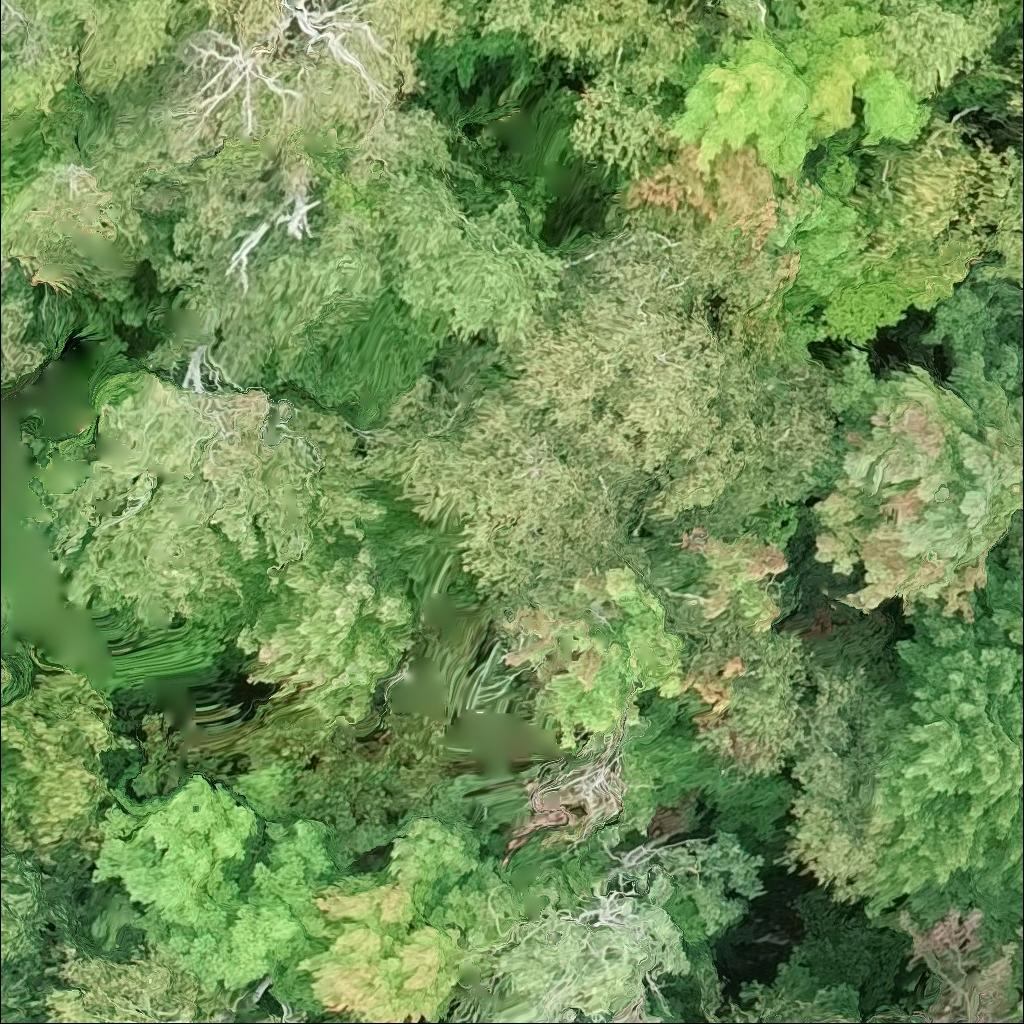crown: (359, 203, 847, 743), (795, 342, 1023, 621), (665, 0, 937, 194), (618, 129, 887, 298), (469, 0, 712, 186), (866, 109, 1023, 287), (880, 0, 1016, 100), (1004, 50, 1023, 122), (1002, 0, 1023, 21), (698, 0, 710, 7), (1019, 35, 1023, 50), (1021, 302, 1023, 316), (1021, 130, 1023, 138)
